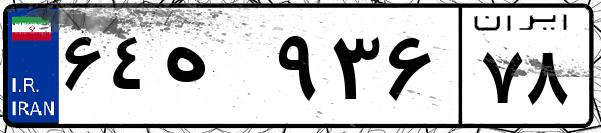3: (330, 28, 385, 110)
4: (110, 28, 158, 98)
6: (385, 28, 445, 110), (57, 26, 110, 100)
7: (475, 38, 525, 113)
8: (525, 38, 570, 115)
9: (270, 28, 330, 110)
ه: (158, 20, 270, 120)
